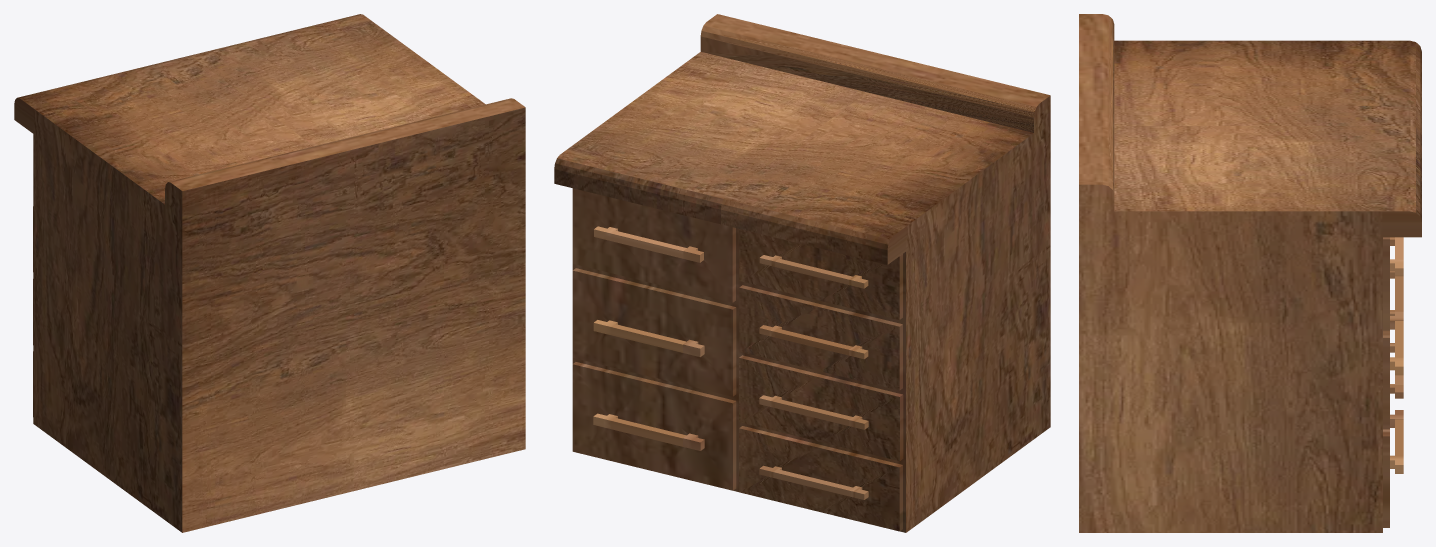
Rendered from countertop1.fbx.
The picture shows the model from 3 angles, left to right: view 1: azimuth 30°, elevation 25°; view 2: azimuth 150°, elevation 25°; view 3: azimuth 270°, elevation 25°; orthographic projection. The views are drawn at different scales.
Parts seen in each view (by area): view 1: Cube, Cube.001; view 2: Cube, Cube.001; view 3: Cube.001, Cube.
Boxes of the visible parts, <box> form: Cube: <box>14,56,353,532</box>; Cube.001: <box>189,14,525,490</box>; Cube: <box>721,54,1050,532</box>; Cube.001: <box>554,14,883,491</box>; Cube.001: <box>1079,99,1421,532</box>; Cube: <box>1079,14,1421,398</box>.
Bounding box in the file's own units: 159 × 152 × 135.
Materials: 1 (1 with a texture image).
